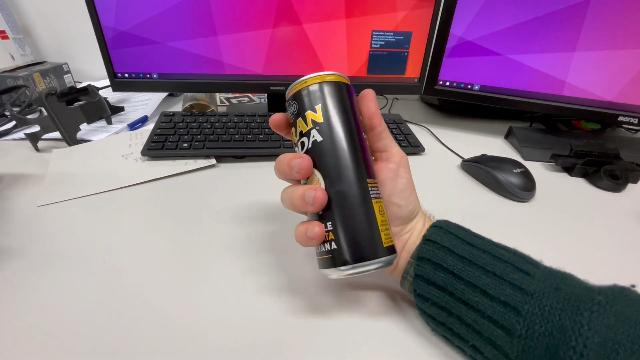OranSoda: (283, 70, 401, 284)
